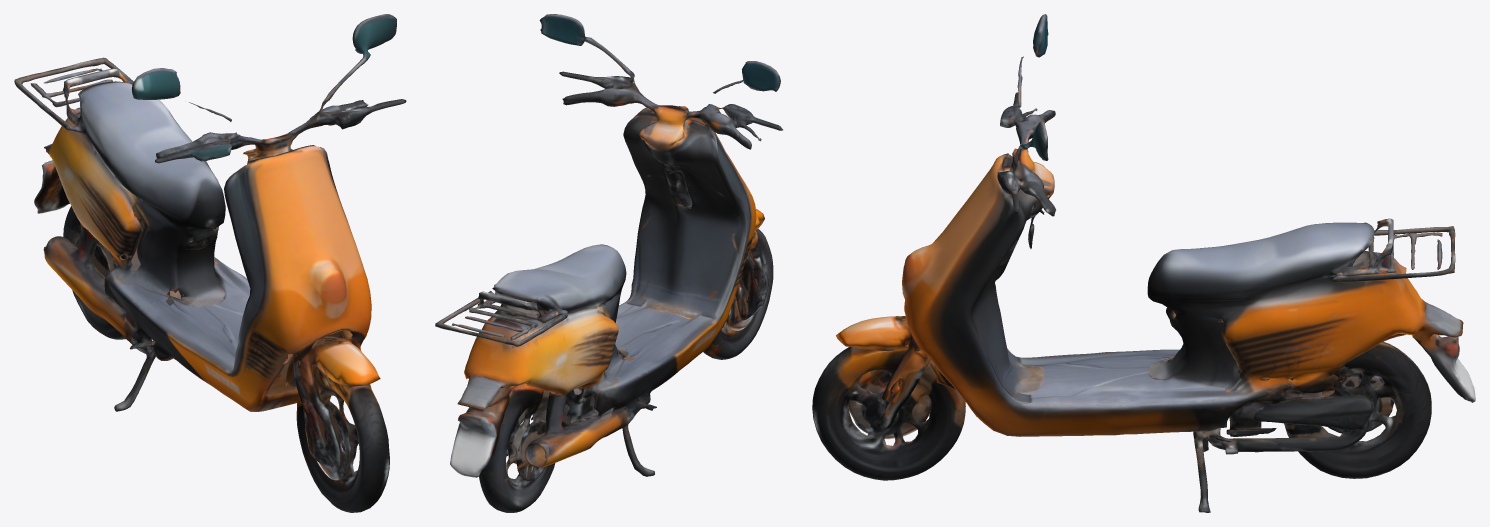
The picture shows the model from 3 angles, left to right: view 1: azimuth 30°, elevation 25°; view 2: azimuth 150°, elevation 25°; view 3: azimuth 270°, elevation 25°; orthographic projection. The views are drawn at different scales.
Size of the model in its own units: 0.9216 by 1.36 by 1.99.
Materials: 1 (1 with a texture image).
